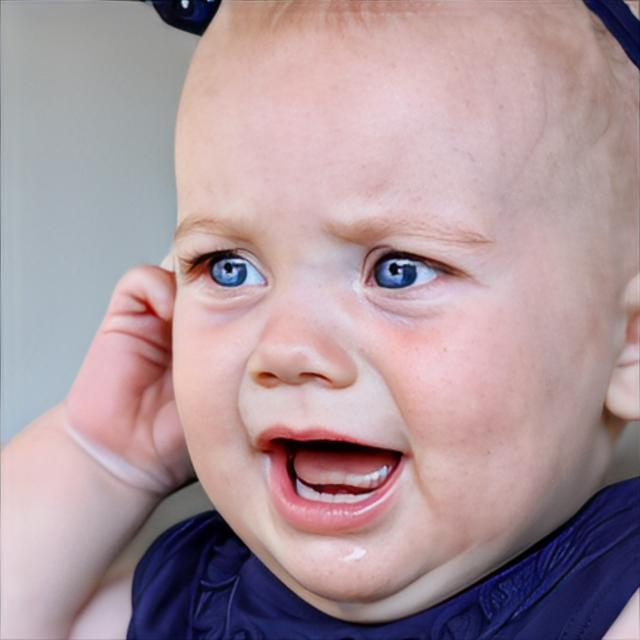fear: (170, 0, 608, 607)
